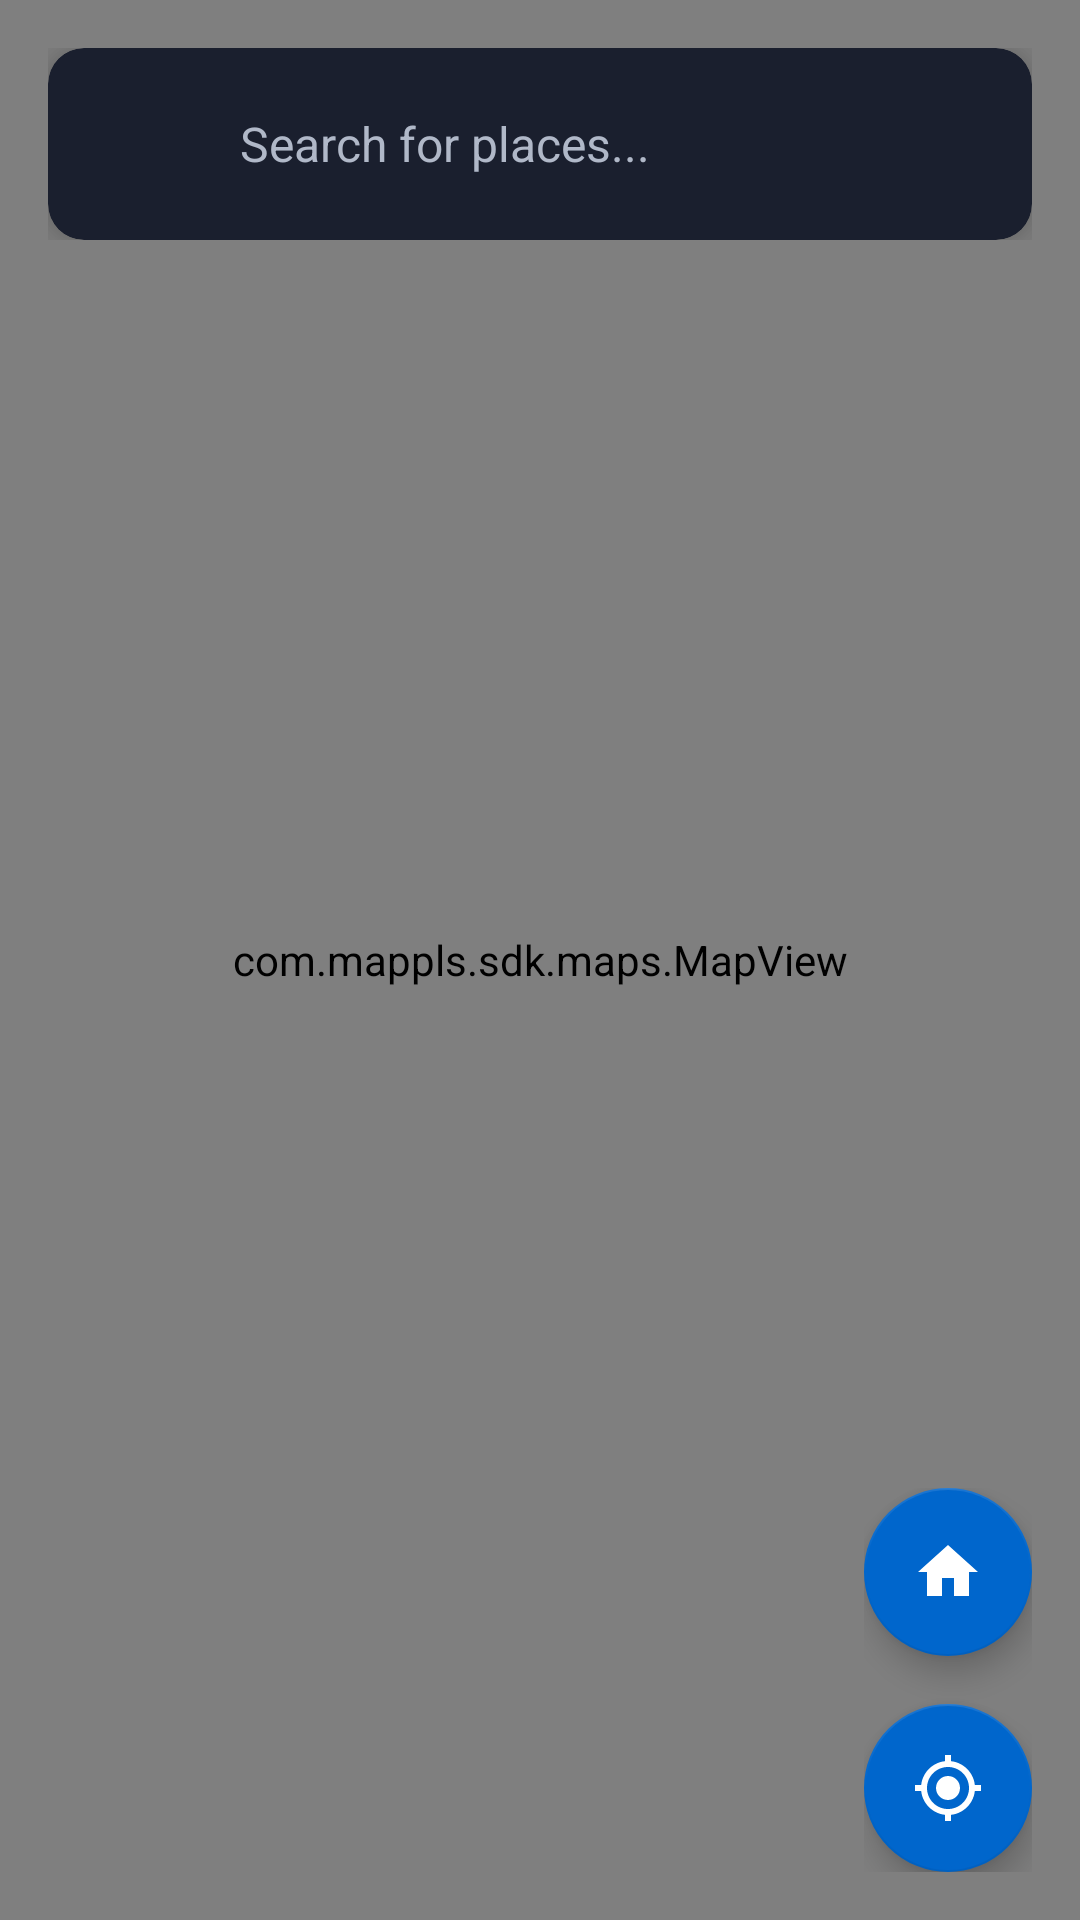

Named icons in this screenshot (1080*1920) and their centers, [x,y]:
Center Location: [948,1788]
Home: [948,1572]
